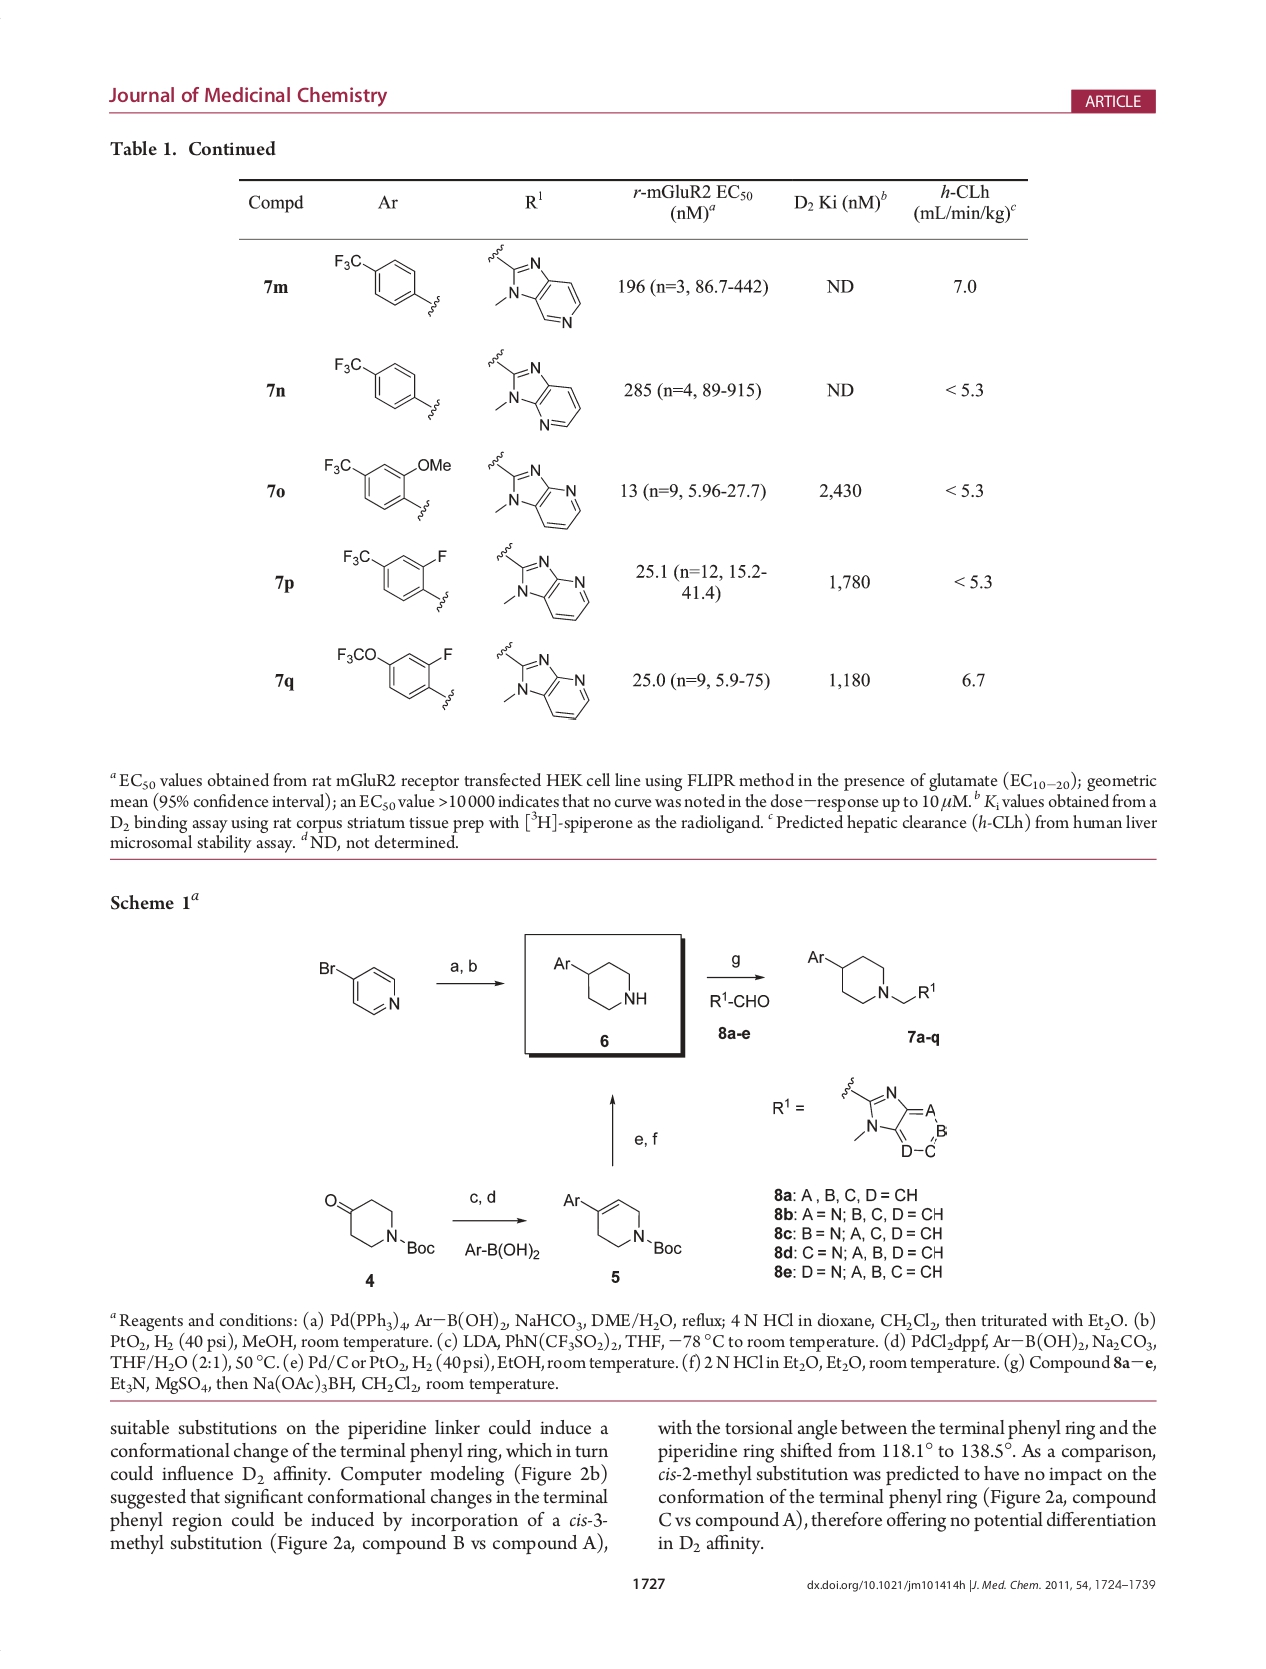exist_molecular: (797, 938, 944, 1013), (836, 1072, 948, 1158), (480, 343, 585, 435), (320, 451, 452, 523), (553, 1190, 685, 1261), (484, 242, 586, 332), (319, 1184, 440, 1258), (484, 447, 586, 535), (332, 641, 457, 713), (339, 539, 452, 616), (327, 352, 445, 426), (492, 539, 590, 622), (332, 245, 442, 319), (493, 638, 590, 721), (548, 944, 656, 1013), (315, 954, 404, 1017)
